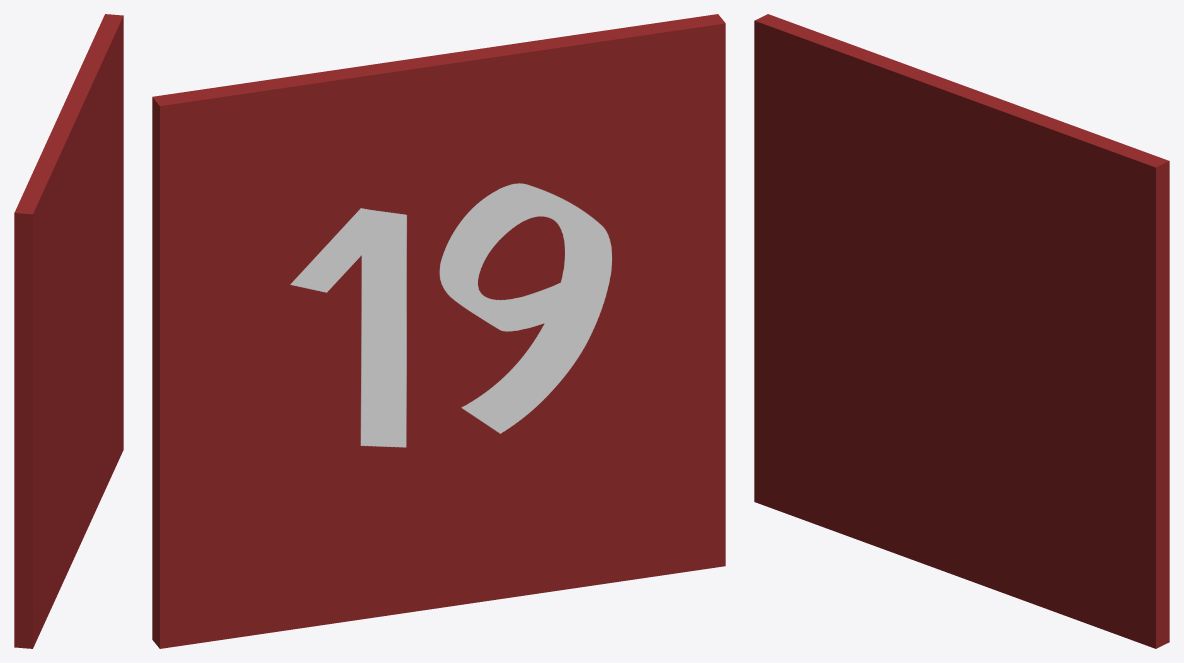
The model's file is flap18.glb.
3 renders of one model, left to right at view 1: azimuth 30°, elevation 25°; view 2: azimuth 150°, elevation 25°; view 3: azimuth 270°, elevation 25°, orthographic. The views are drawn at different scales.
Visible parts, largest first — view 1: flap.018; view 2: flap.018; view 3: flap.018.
Part boxes in pixels (left/top/right/bottom): flap.018: left=14, top=14, right=123, bottom=648; flap.018: left=152, top=14, right=725, bottom=648; flap.018: left=754, top=14, right=1169, bottom=648.
Bounding box in the file's own units: 0.1711 × 0.25 × 0.1954.
1 material, 1 textured.
